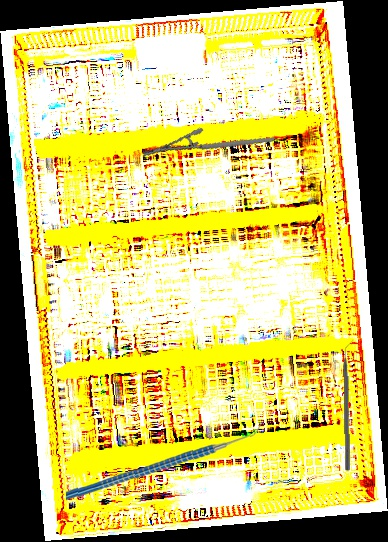Chopper: (66, 414, 262, 505), (342, 338, 358, 472)
Needle Holder: (142, 109, 275, 185)
